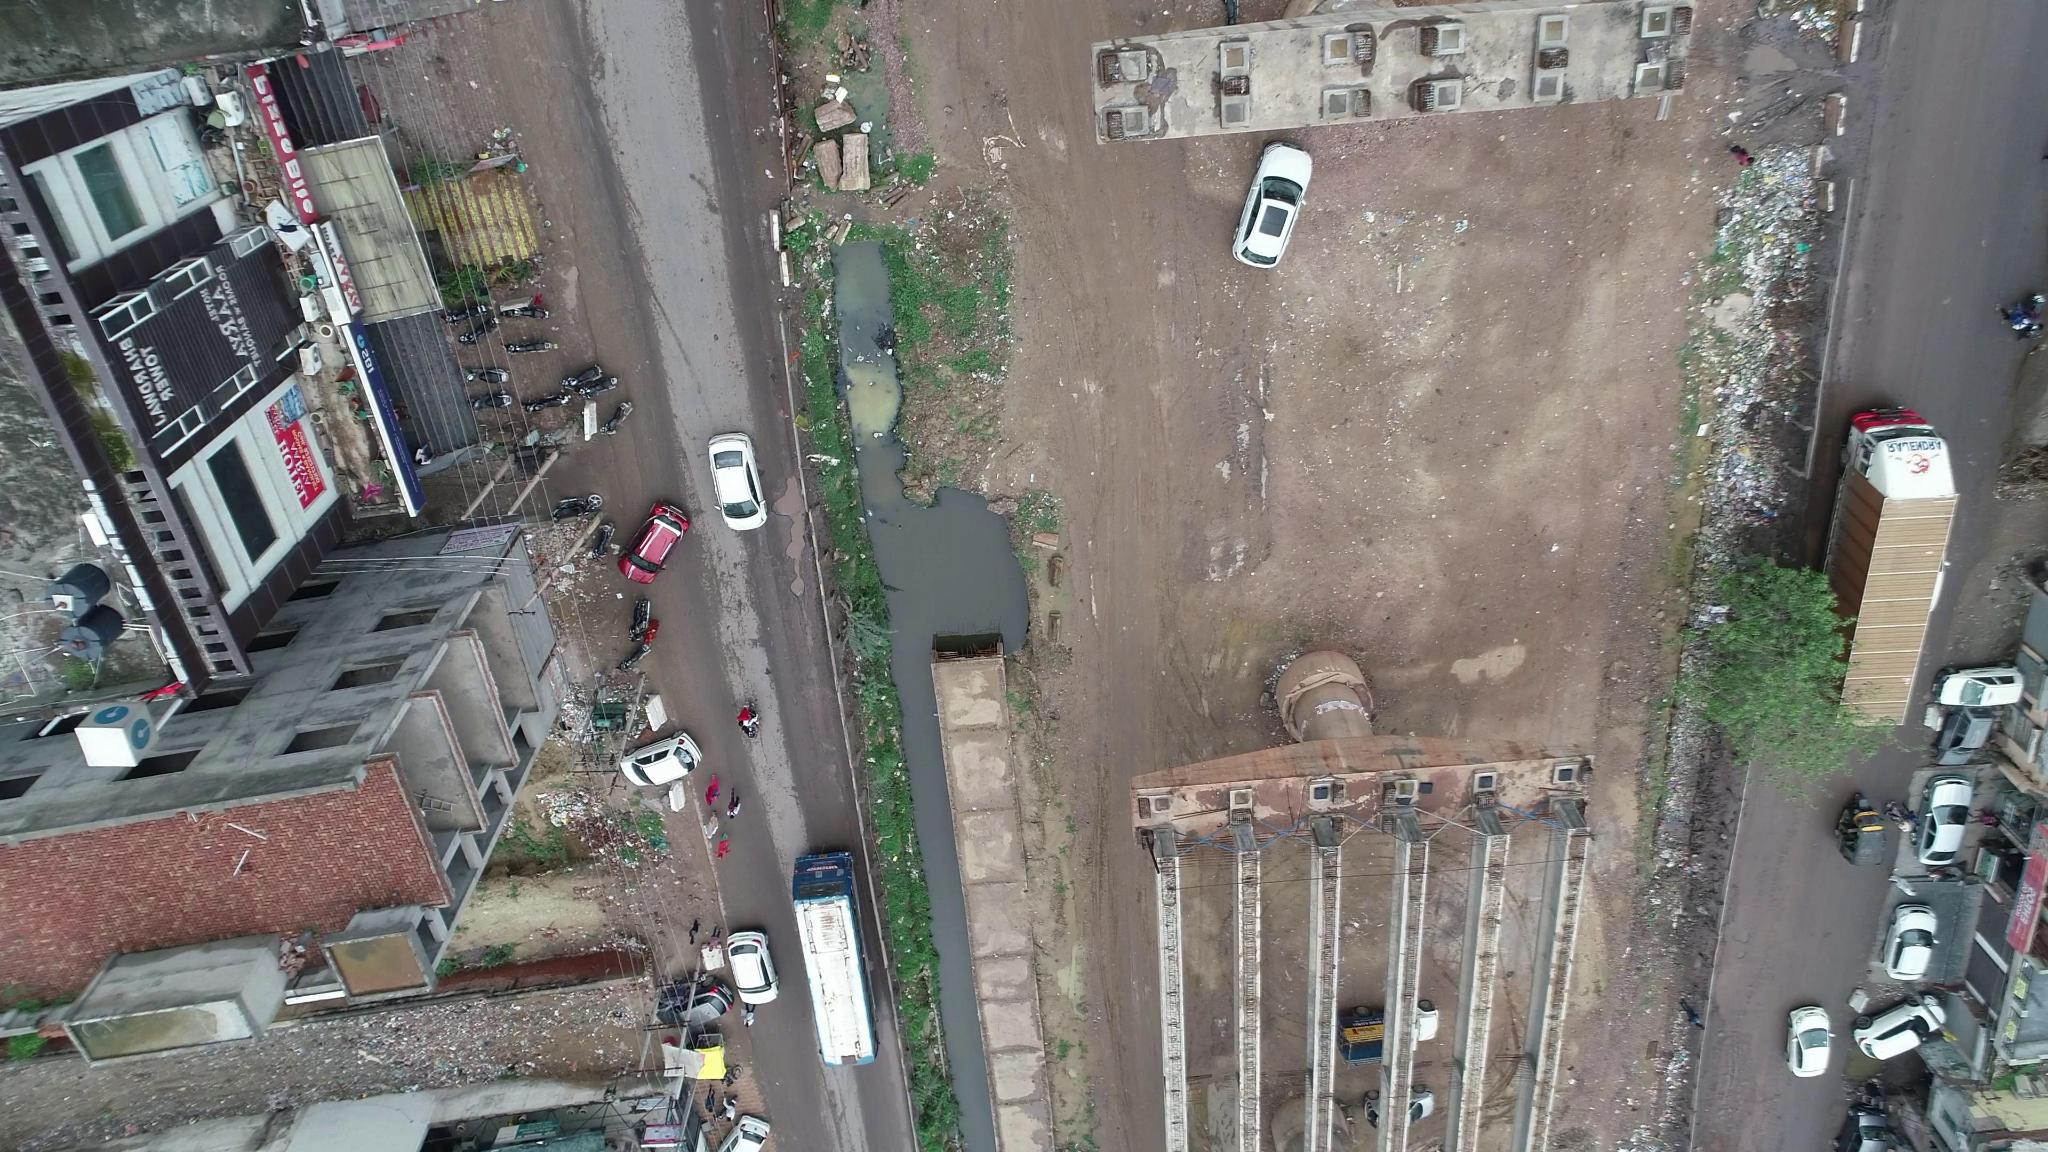Waterlogging: (762, 480, 819, 627)
